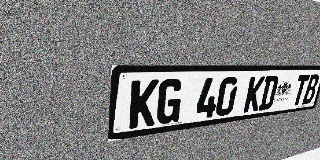0: (214, 77, 239, 117)
4: (195, 77, 221, 119)
B: (302, 74, 320, 104)
D: (258, 76, 280, 111)
G: (155, 79, 184, 125)
K: (128, 79, 159, 129), (243, 76, 266, 113)
T: (291, 75, 310, 106)
